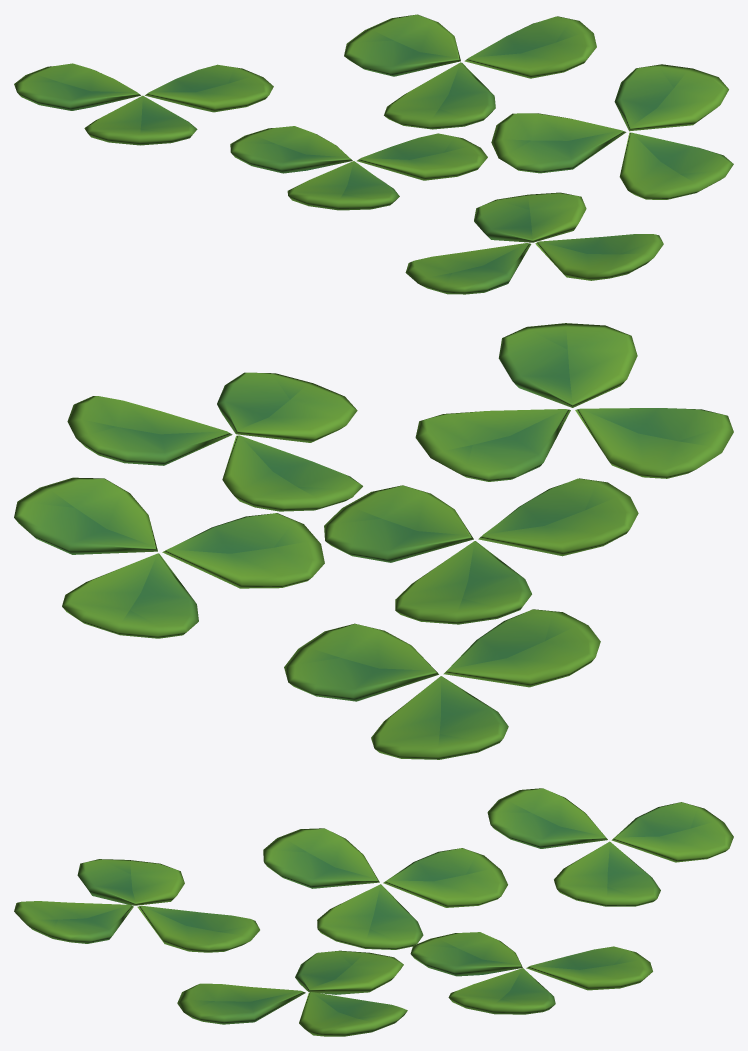
File: Plants_026.fbx
3 views of the same model, one above another, from view 1: azimuth 30°, elevation 25°; view 2: azimuth 150°, elevation 25°; view 3: azimuth 270°, elevation 25° (orthographic). The views are drawn at different scales.
Visible parts, largest first — view 1: Plants.026; view 2: Plants.026; view 3: Plants.026.
Part boxes in pixels (x1=…): Plants.026: x1=14, y1=14, x2=733, y2=294; Plants.026: x1=14, y1=323, x2=733, y2=759; Plants.026: x1=14, y1=788, x2=733, y2=1036.
Bounding box in the file's own units: 531 × 36.19 × 656.
